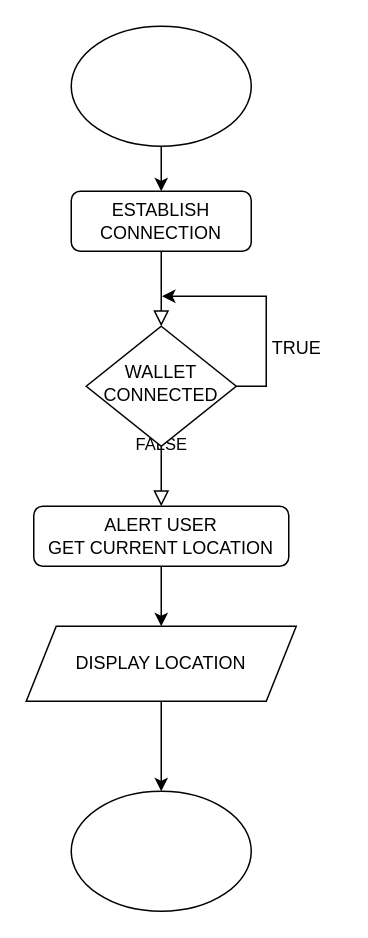
The diagram is 368 pixels wide and 938 high, and some of its shapes have lost their labels. The centre of each missing label's shape, as x and y in pixels:
"START" belongs at point 160,85.
"STOP" belongs at point 160,850.
